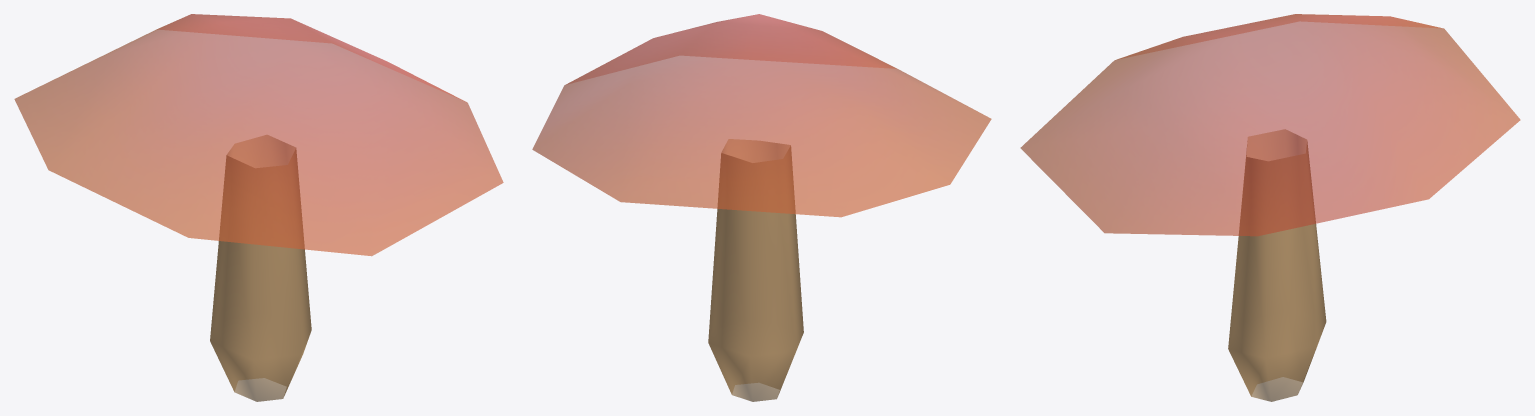
The model's file is PT_Caesars_Mushroom_01.glb.
3 views of the same model, side by side, from view 1: azimuth 30°, elevation 25°; view 2: azimuth 150°, elevation 25°; view 3: azimuth 270°, elevation 25° (orthographic). The views are drawn at different scales.
Parts seen in each view (by area): view 1: PT_Caesars_Mushroom_01; view 2: PT_Caesars_Mushroom_01; view 3: PT_Caesars_Mushroom_01.
Part boxes in pixels (left/top/right/bottom): PT_Caesars_Mushroom_01: left=14, top=14, right=503, bottom=401; PT_Caesars_Mushroom_01: left=532, top=14, right=991, bottom=401; PT_Caesars_Mushroom_01: left=1020, top=14, right=1520, bottom=401.
Bounding box in the file's own units: 0.3342 × 0.2859 × 0.3541.
1 material, 1 textured.
